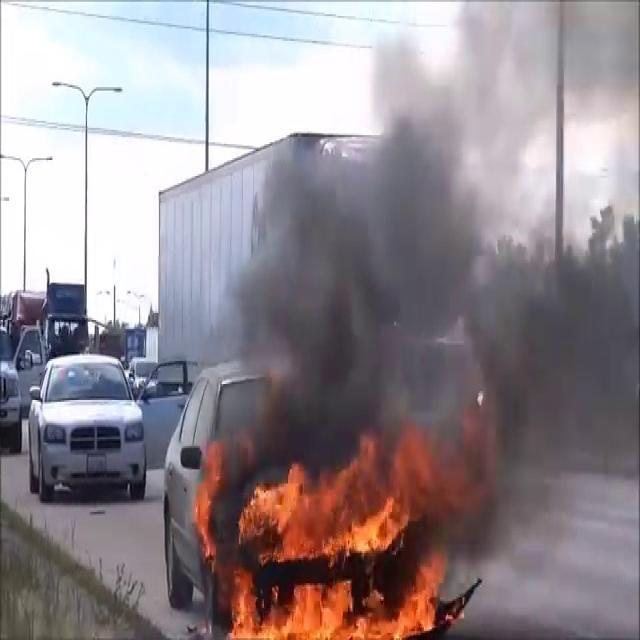Fire: (216, 434, 452, 640)
Smoke: (205, 3, 638, 524)
